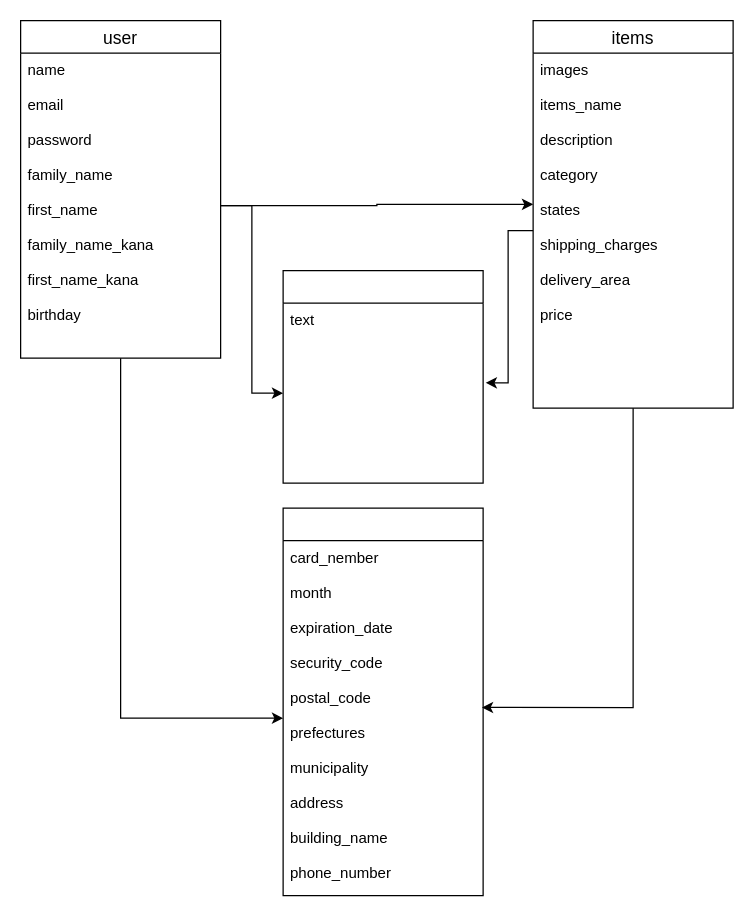
The diagram is 754 pixels wide and 916 high, and some of its shapes have lost their labels. The box of each missing label's shape, as (x1, y1, x2, y2) in pixels:
coments: (282, 269, 483, 483)
purchase: (282, 507, 483, 896)
